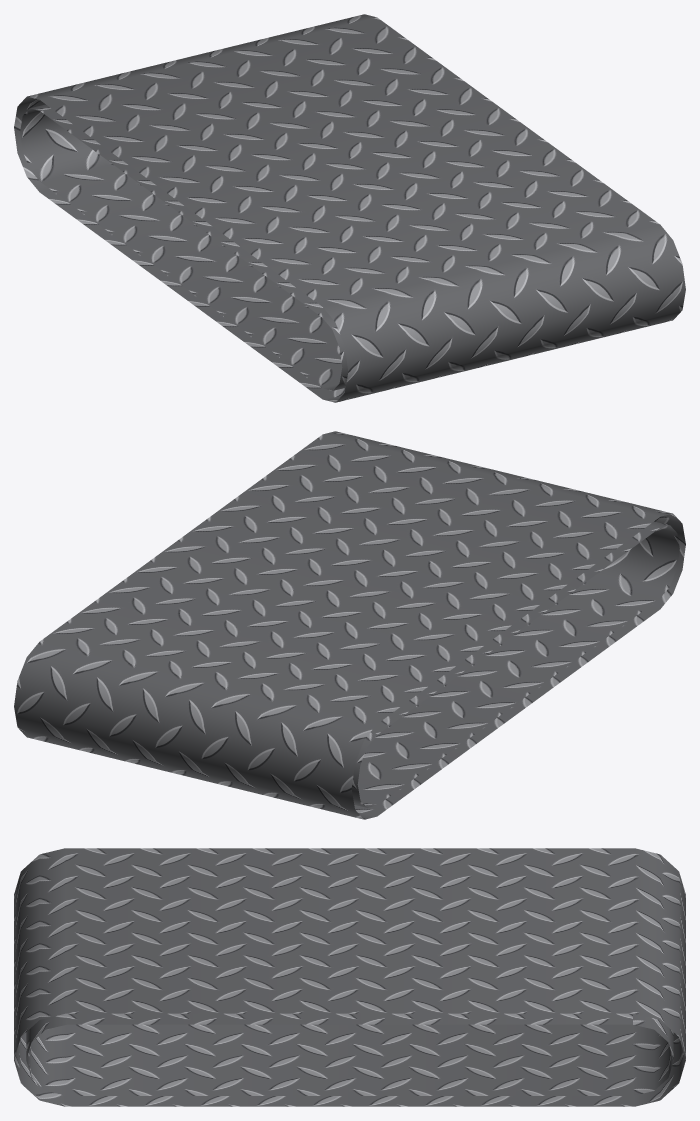
The model's file is obstacle_15_002.fbx.
The picture shows the model from 3 angles, top to bottom: view 1: azimuth 30°, elevation 25°; view 2: azimuth 150°, elevation 25°; view 3: azimuth 270°, elevation 25°; orthographic projection.
Parts seen in each view (by area): view 1: obstacle_15_002; view 2: obstacle_15_002; view 3: obstacle_15_002.
Boxes of the visible parts, x1,y1,x2,y2 form: obstacle_15_002: (14, 14, 685, 402); obstacle_15_002: (14, 431, 685, 819); obstacle_15_002: (14, 848, 685, 1106).
Size of the model in its own units: 384 by 658 by 100.
